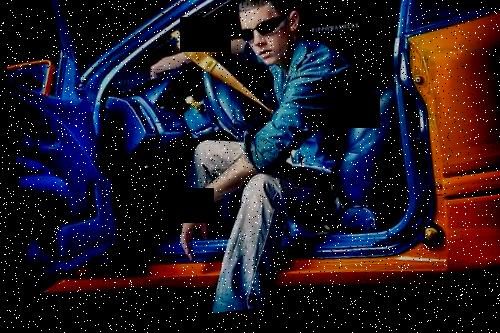seatbelt: (168, 27, 275, 135)
